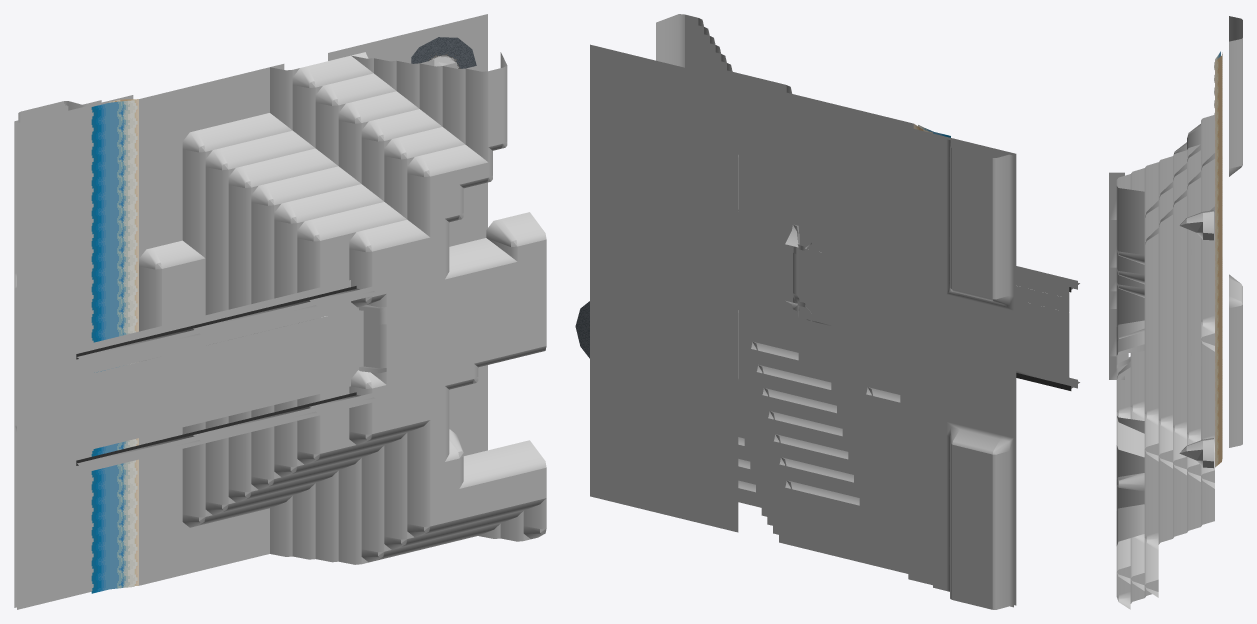
The model's file is Barrier-Reef_11_03.obj.
3 renders of one model, left to right at view 1: azimuth 30°, elevation 25°; view 2: azimuth 150°, elevation 25°; view 3: azimuth 270°, elevation 25°, orthographic. The views are drawn at different scales.
Parts seen in each view (by area): view 1: map; view 2: map; view 3: map.
Boxes of the visible parts, x1,y1,x2,y2 form: map: [14, 14, 546, 609]; map: [575, 14, 1079, 609]; map: [1109, 16, 1242, 609].
Bounding box in the file's own units: 33.18 × 32 × 9.55.
